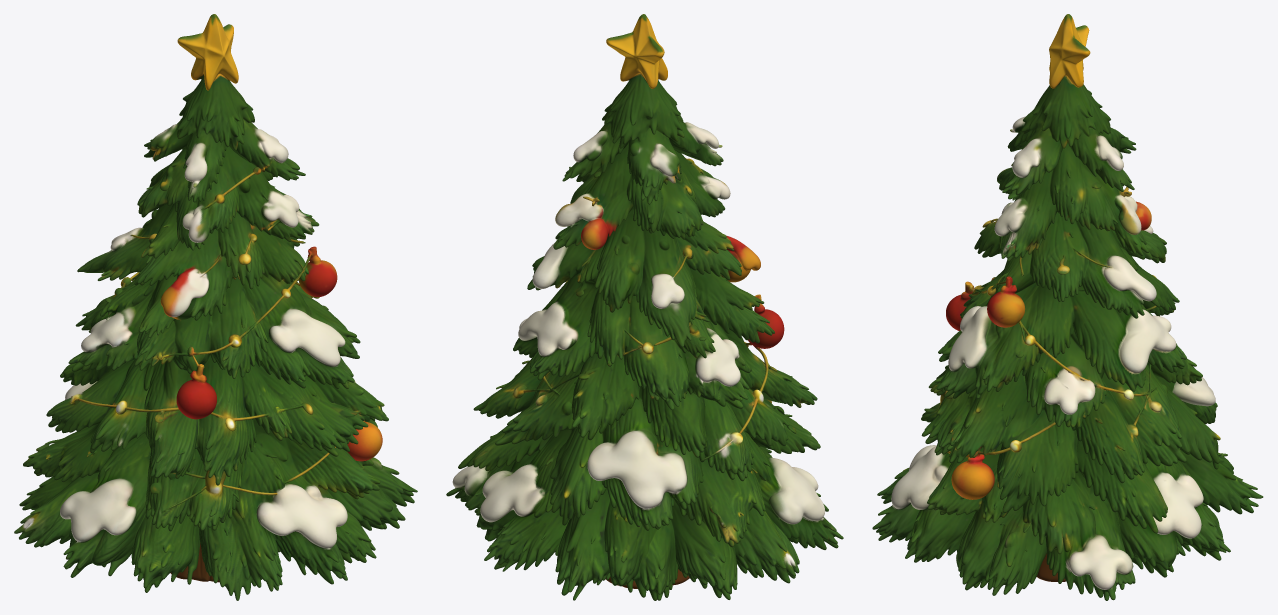
The model's file is wish-tree.glb.
3 renders of one model, left to right at view 1: azimuth 30°, elevation 25°; view 2: azimuth 150°, elevation 25°; view 3: azimuth 270°, elevation 25°, orthographic.
Parts seen in each view (by area): view 1: tripo_node_596d902d-db93-4dd2-823b-0190cee6baf6; view 2: tripo_node_596d902d-db93-4dd2-823b-0190cee6baf6; view 3: tripo_node_596d902d-db93-4dd2-823b-0190cee6baf6.
Part boxes in pixels (left/top/right/bottom): tripo_node_596d902d-db93-4dd2-823b-0190cee6baf6: left=14, top=14, right=417, bottom=600; tripo_node_596d902d-db93-4dd2-823b-0190cee6baf6: left=446, top=14, right=843, bottom=600; tripo_node_596d902d-db93-4dd2-823b-0190cee6baf6: left=872, top=14, right=1263, bottom=600.
Bounding box in the file's own units: 0.6495 × 0.9781 × 0.6319.
Materials: 1 (1 with a texture image).
